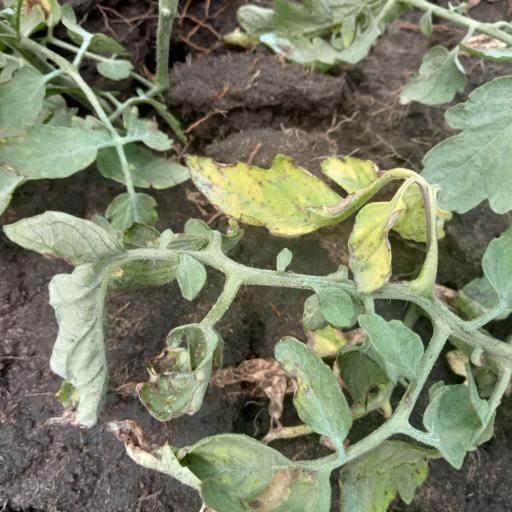Tomato_Brown_Spots: (178, 148, 422, 242), (103, 415, 338, 512)
